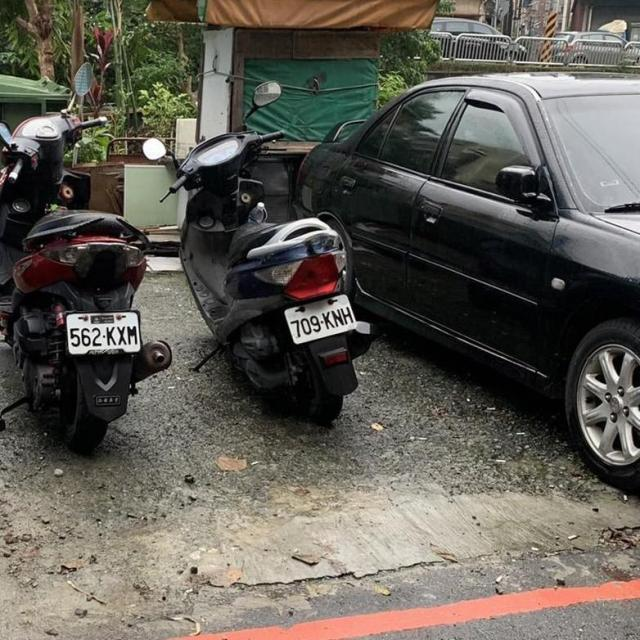W: (276, 291, 368, 346), (61, 306, 149, 362)
